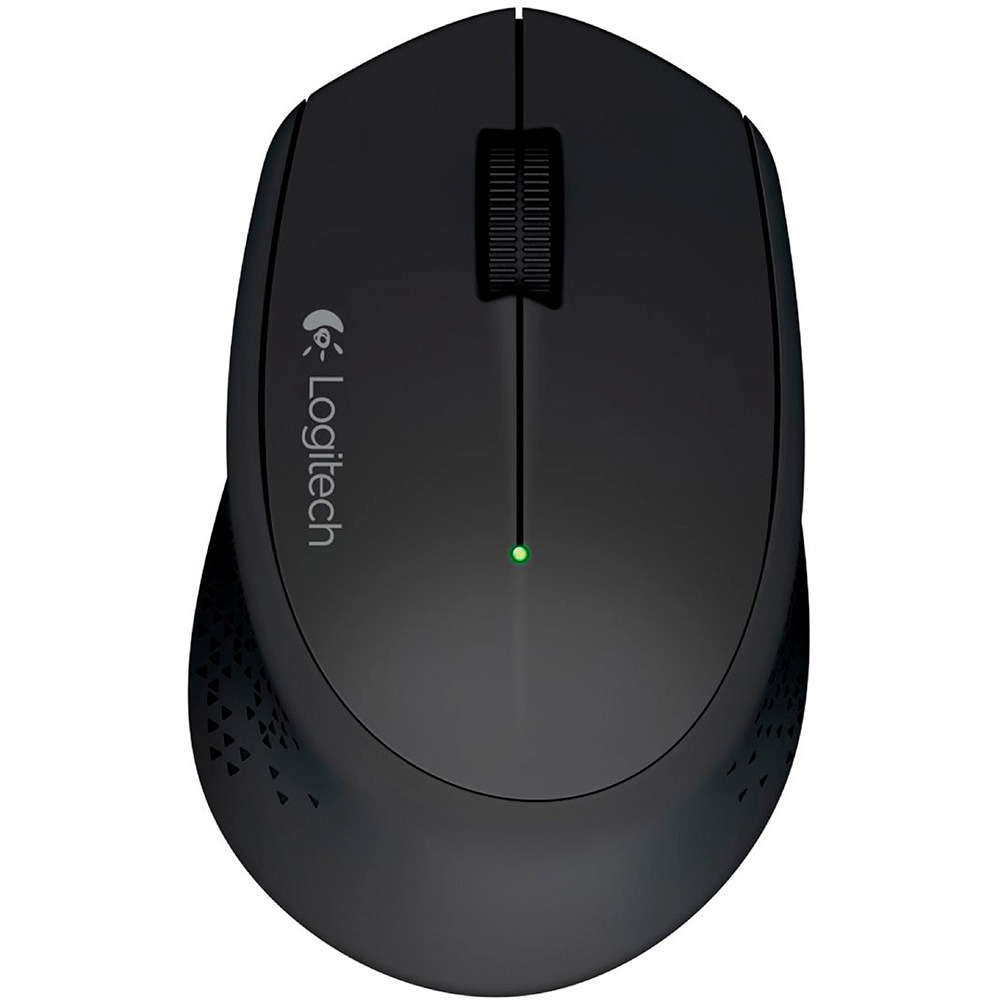mouse: (200, 18, 817, 996)
